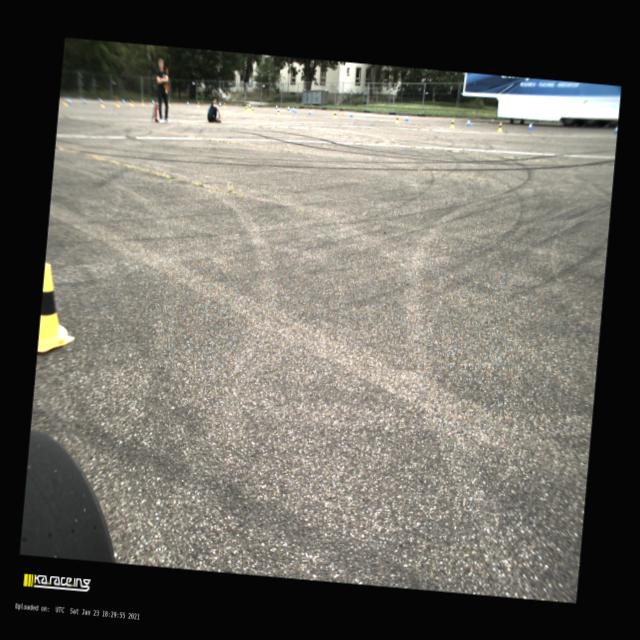blue_cone: (526, 121, 532, 130), (614, 124, 618, 134), (466, 118, 470, 126), (404, 114, 408, 122), (66, 98, 71, 104), (349, 110, 353, 117), (307, 108, 311, 114), (286, 105, 290, 111), (122, 98, 125, 104), (82, 98, 85, 104), (186, 100, 189, 105), (248, 102, 250, 108), (294, 107, 296, 113), (292, 106, 294, 112), (276, 104, 278, 110), (98, 98, 101, 102), (152, 99, 154, 104), (219, 102, 221, 106)
yellow_cone: (36, 262, 80, 354), (448, 118, 454, 128), (497, 121, 502, 132), (394, 114, 400, 123), (62, 98, 68, 106), (332, 110, 338, 118), (276, 108, 280, 116), (116, 100, 120, 107), (101, 101, 105, 107), (130, 100, 134, 106), (167, 100, 171, 106), (251, 106, 254, 114), (244, 105, 247, 112), (141, 99, 144, 105), (197, 101, 200, 107), (248, 105, 250, 112), (224, 102, 226, 108), (246, 103, 248, 109)
